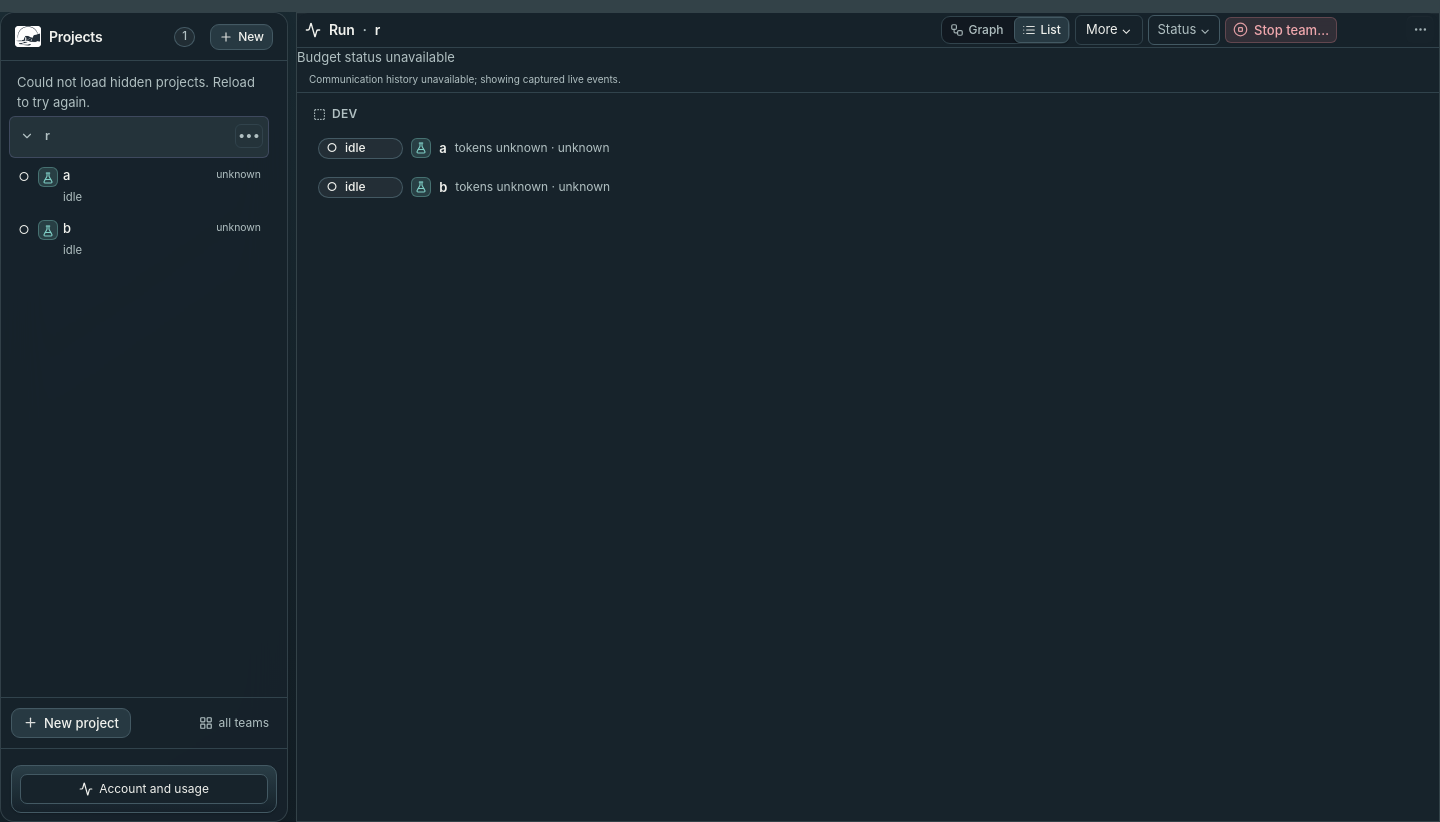
Test: vocabulary › the stop-failure alert keeps host reasons verbatim and adds no OpenRig words
Click the button "Stop team…".
click(1281, 30)  # box [1225, 17, 1337, 43]
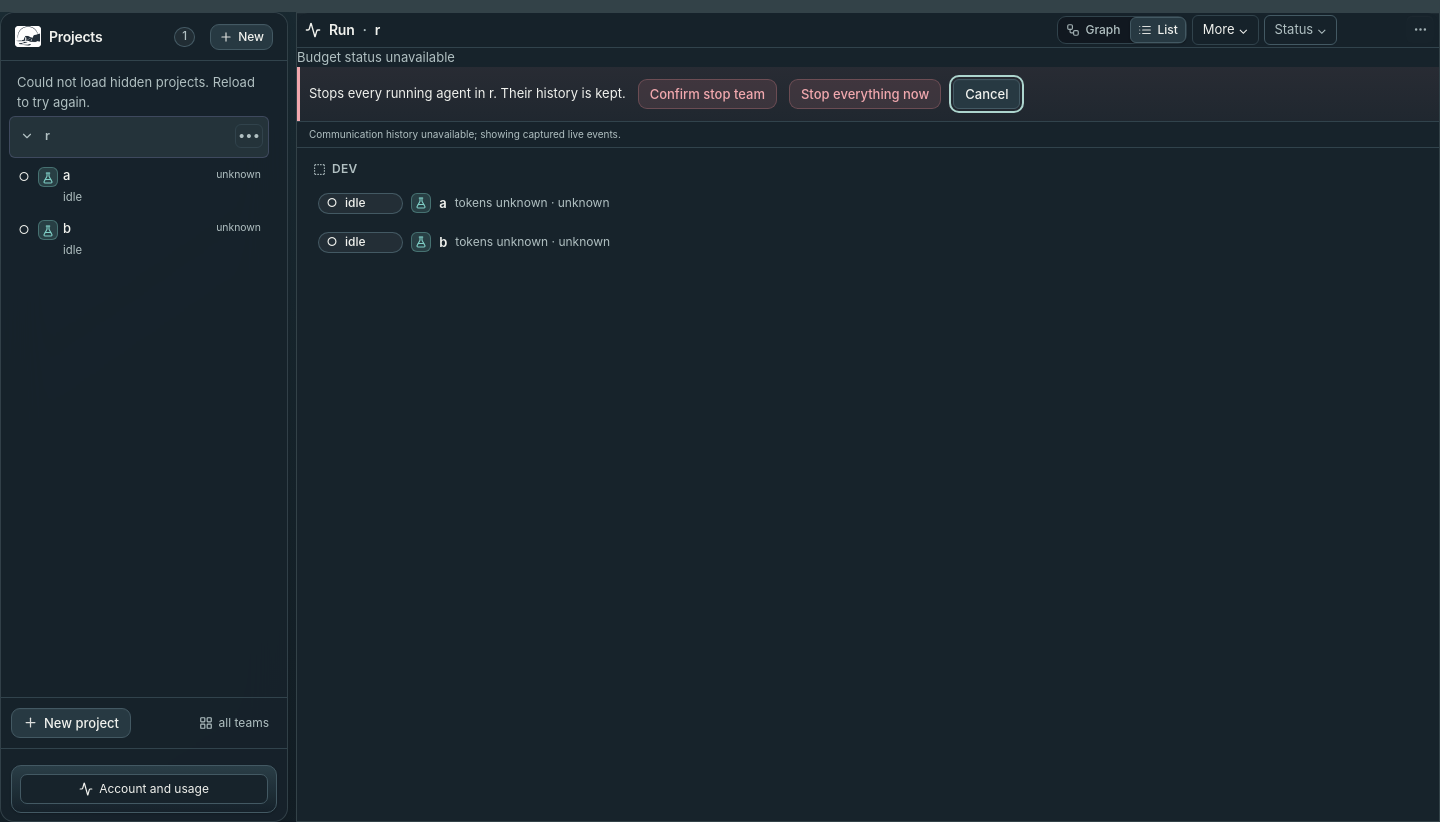
Click the button "Confirm stop team".
click(707, 94)  # box [638, 79, 777, 109]
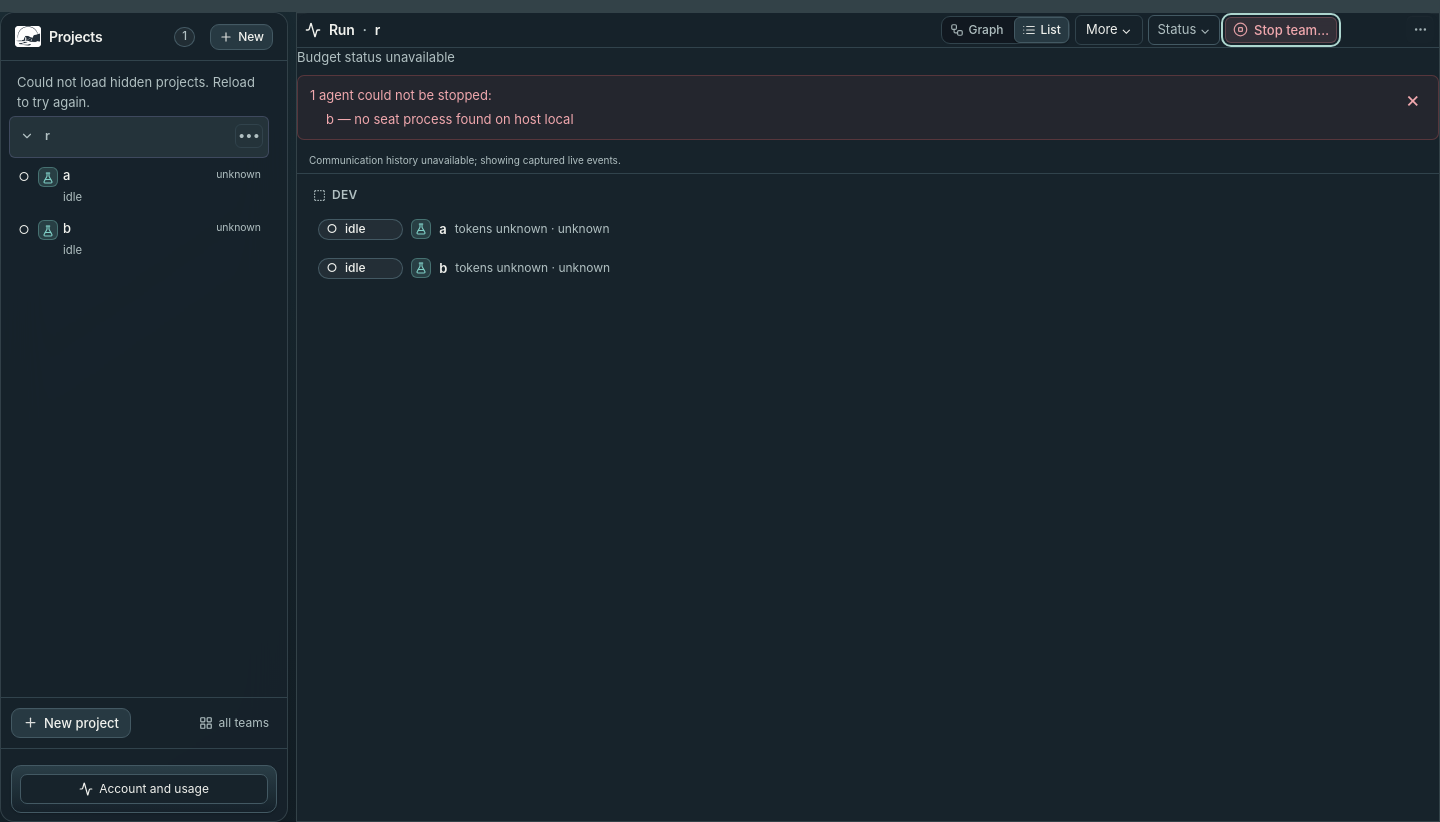
Check: the message shows "b — no seat process found on host local", box [297, 75, 1439, 140]
